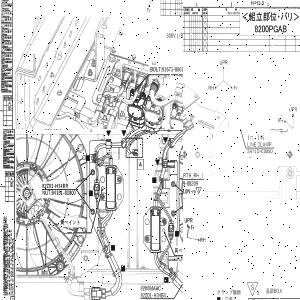PartNumber: (42, 182, 69, 189), (140, 291, 167, 298), (247, 148, 274, 155), (51, 190, 76, 196), (162, 66, 183, 71), (183, 179, 198, 186)
